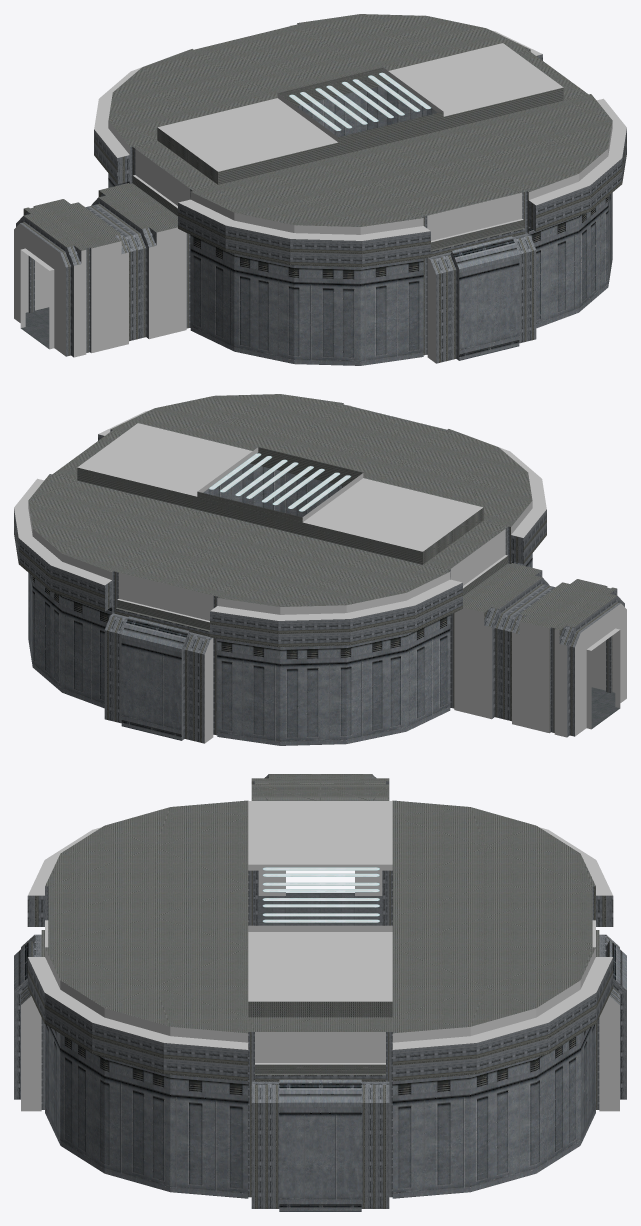
The model's file is poi_all_impl_bunker_small_outpost_s02_r5_powerroom_mesh_r5.fbx.
3 renders of one model, top to bottom at view 1: azimuth 30°, elevation 25°; view 2: azimuth 150°, elevation 25°; view 3: azimuth 270°, elevation 25°, orthographic. The views are drawn at different scales.
Visible parts, largest first — view 1: mesh_node; view 2: mesh_node; view 3: mesh_node.
Part boxes in pixels (x1,y1,x2,y2): mesh_node: (14,14,626,365); mesh_node: (14,394,626,745); mesh_node: (14,774,626,1211).
Bounding box in the file's own units: 21.9 × 6 × 17.8.
